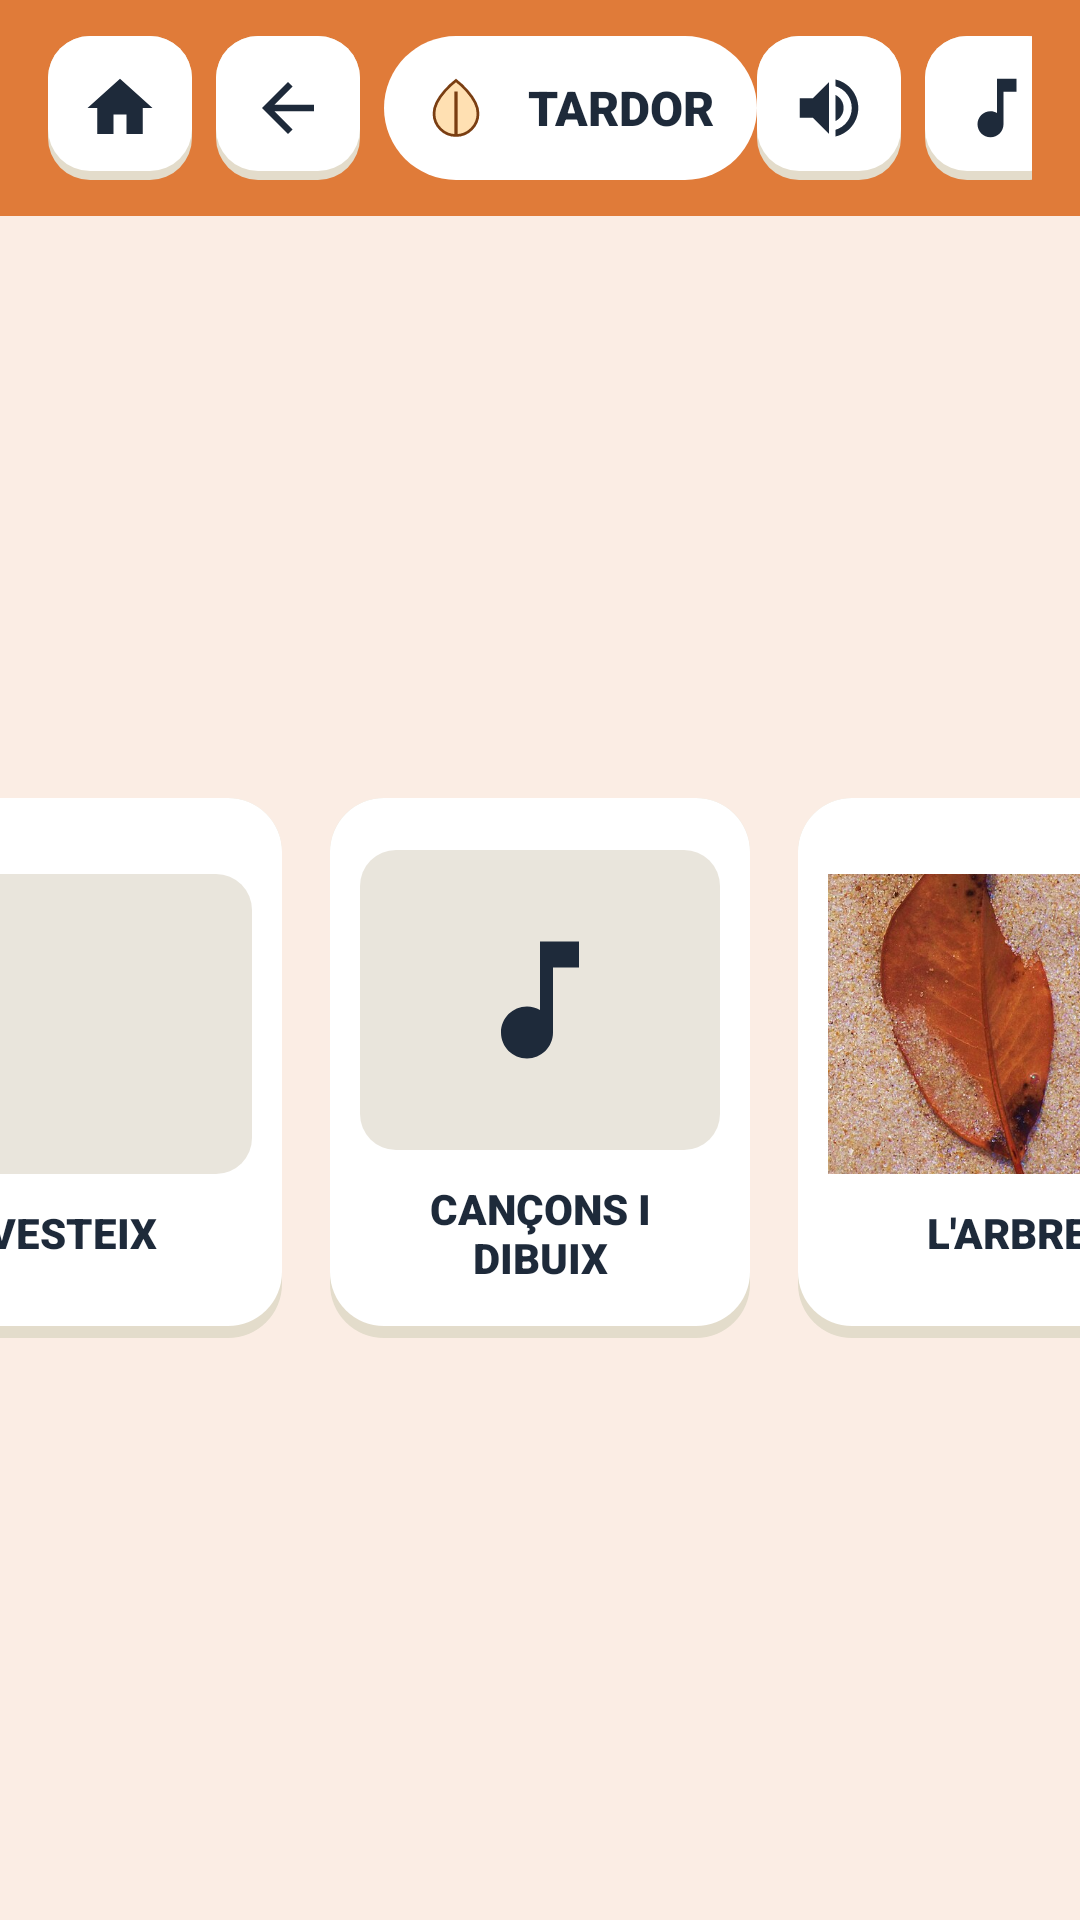

Point at icon controls on the screen. Image size 1080px×1920px, points as [x,y].
Enrere: [288,108]
Escoltar: [829,108]
Inici: [120,108]
musica: [540,1000]
Música: [978,108]
otono: [456,108]
